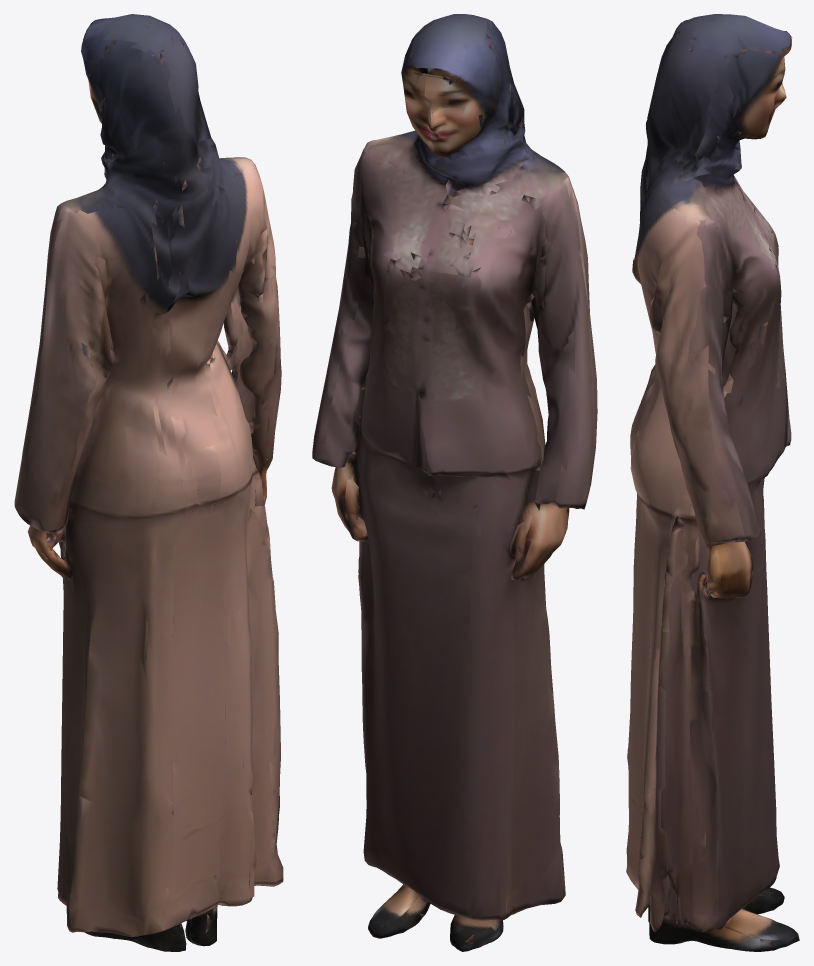
The model's file is woman-hijab-suit.glb.
3 views of the same model, side by side, from view 1: azimuth 30°, elevation 25°; view 2: azimuth 150°, elevation 25°; view 3: azimuth 270°, elevation 25° (orthographic).
Visible parts, largest first — view 1: body; view 2: body; view 3: body.
Boxes of the visible parts, box(x1,y1,x2,y2) form: body: box(14, 14, 283, 951); body: box(312, 14, 597, 951); body: box(626, 14, 799, 951).
Bounding box in the file's own units: 0.4915 × 1.65 × 0.287.
Materials: 1 (1 with a texture image).
